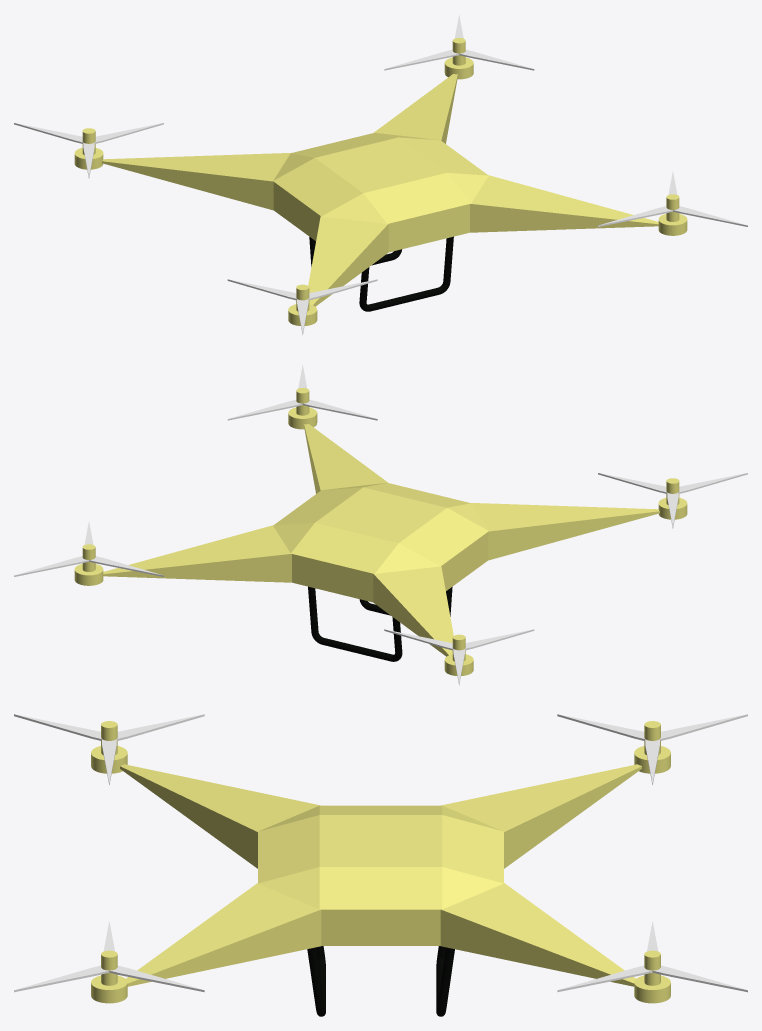
3 views of the same model, one above another, from view 1: azimuth 30°, elevation 25°; view 2: azimuth 150°, elevation 25°; view 3: azimuth 270°, elevation 25° (orthographic). The views are drawn at different scales.
Visible parts, largest first — view 1: centre, support, motor, motor.002, motor.001, motor.003; view 2: centre, support.001, motor.002, motor, motor.003, motor.001; view 3: centre, motor, motor.002, motor.001, motor.003, support.001, support, blade.003, blade.008, blade.002, blade.009, blade.006 (+3 smaller).
Part boxes in pixels (box(x1,y1,x2,y2)): centre: box(102, 74, 658, 306); support: box(359, 236, 453, 311); motor: box(658, 194, 687, 235); motor.002: box(444, 38, 473, 79); motor.001: box(288, 284, 317, 325); motor.003: box(74, 128, 103, 169); centre: box(103, 424, 659, 656); support.001: box(308, 586, 402, 661); motor.002: box(74, 544, 103, 585); motor: box(288, 388, 317, 429); motor.003: box(444, 634, 473, 675); motor.001: box(658, 478, 687, 519); centre: box(120, 764, 641, 986); motor: box(91, 950, 127, 1003); motor.002: box(634, 950, 670, 1003); motor.001: box(91, 721, 127, 773); motor.003: box(634, 721, 670, 773); support.001: box(436, 946, 454, 1016); support: box(307, 946, 325, 1016); blade.003: box(109, 965, 204, 992); blade.008: box(557, 965, 652, 992); blade.002: box(14, 965, 109, 992); blade.009: box(652, 965, 747, 992); blade.006: box(116, 714, 204, 740).
Size of the model in its own units: 0.356 by 0.093 by 0.3999.
